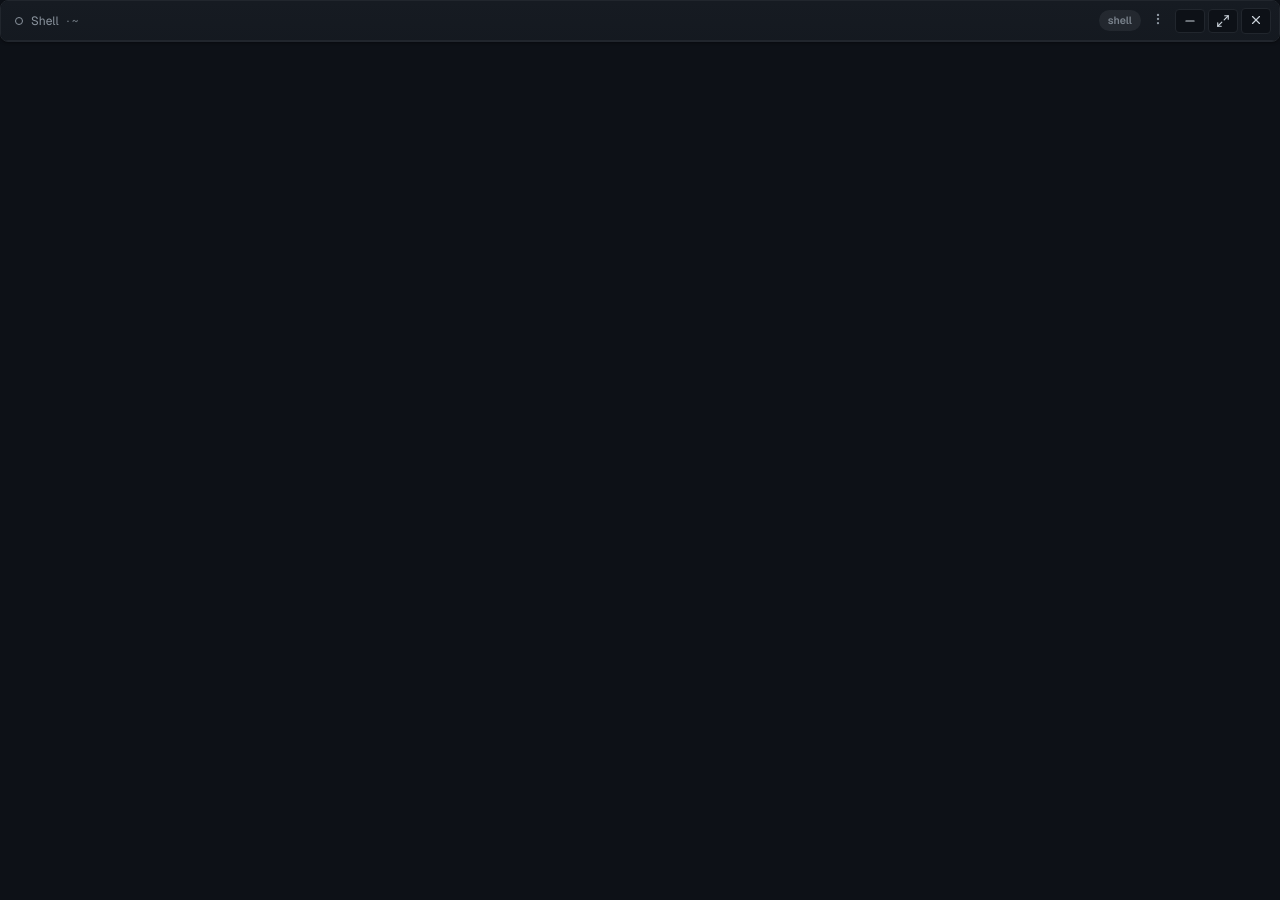
Test: a confirmed kill posts the window and drops its tile at once
The image size is (1280, 900).
Click the button with class "gs-kill-btn" at (1256, 20), box top-left (1241, 8), bottom-right (1271, 34)
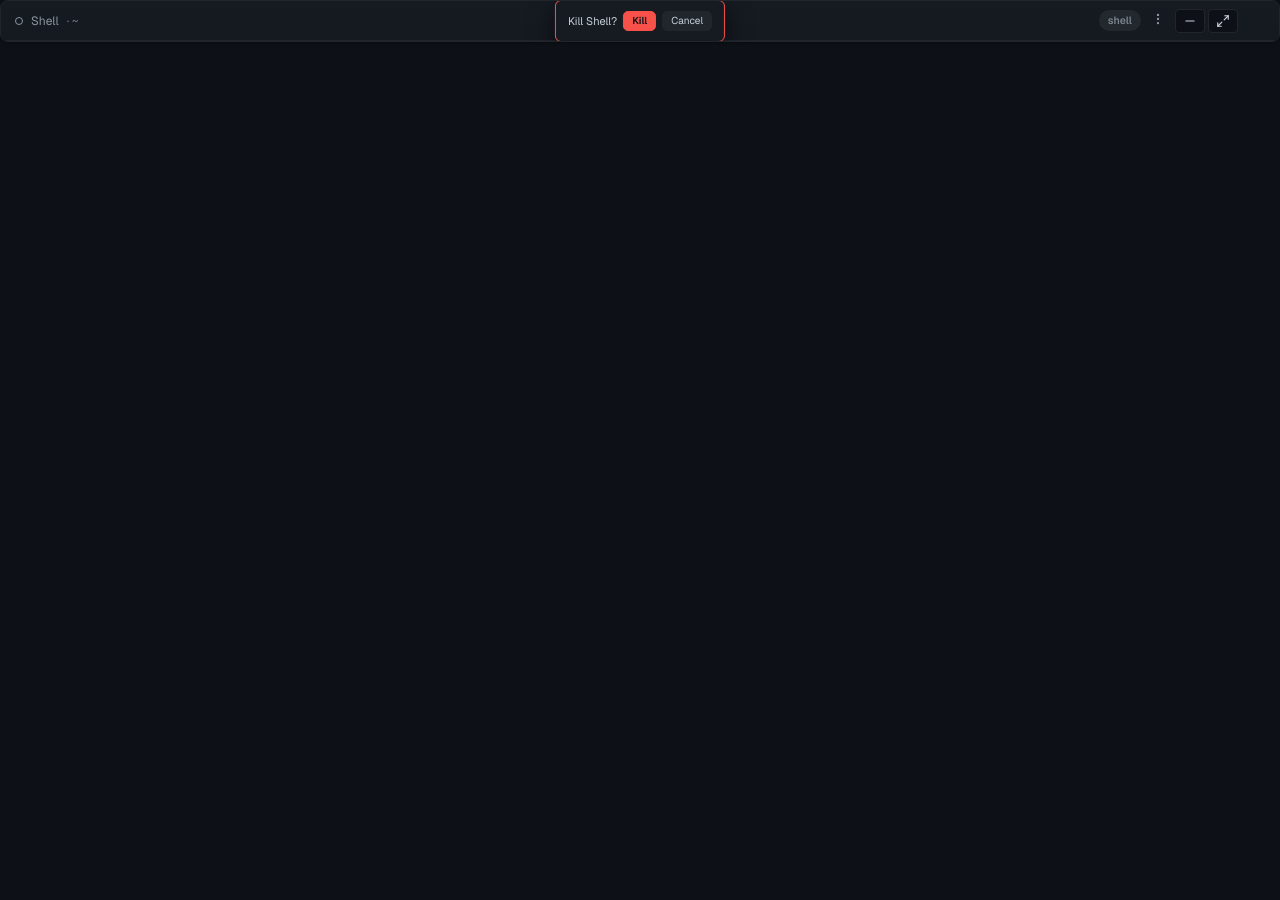
Result: the text with class "kanban-confirm-msg" reads "Kill Shell?" at top-left (568, 13), bottom-right (617, 29)
Click the button with class "btn-confirm" at (640, 21), box top-left (623, 11), bottom-right (656, 31)
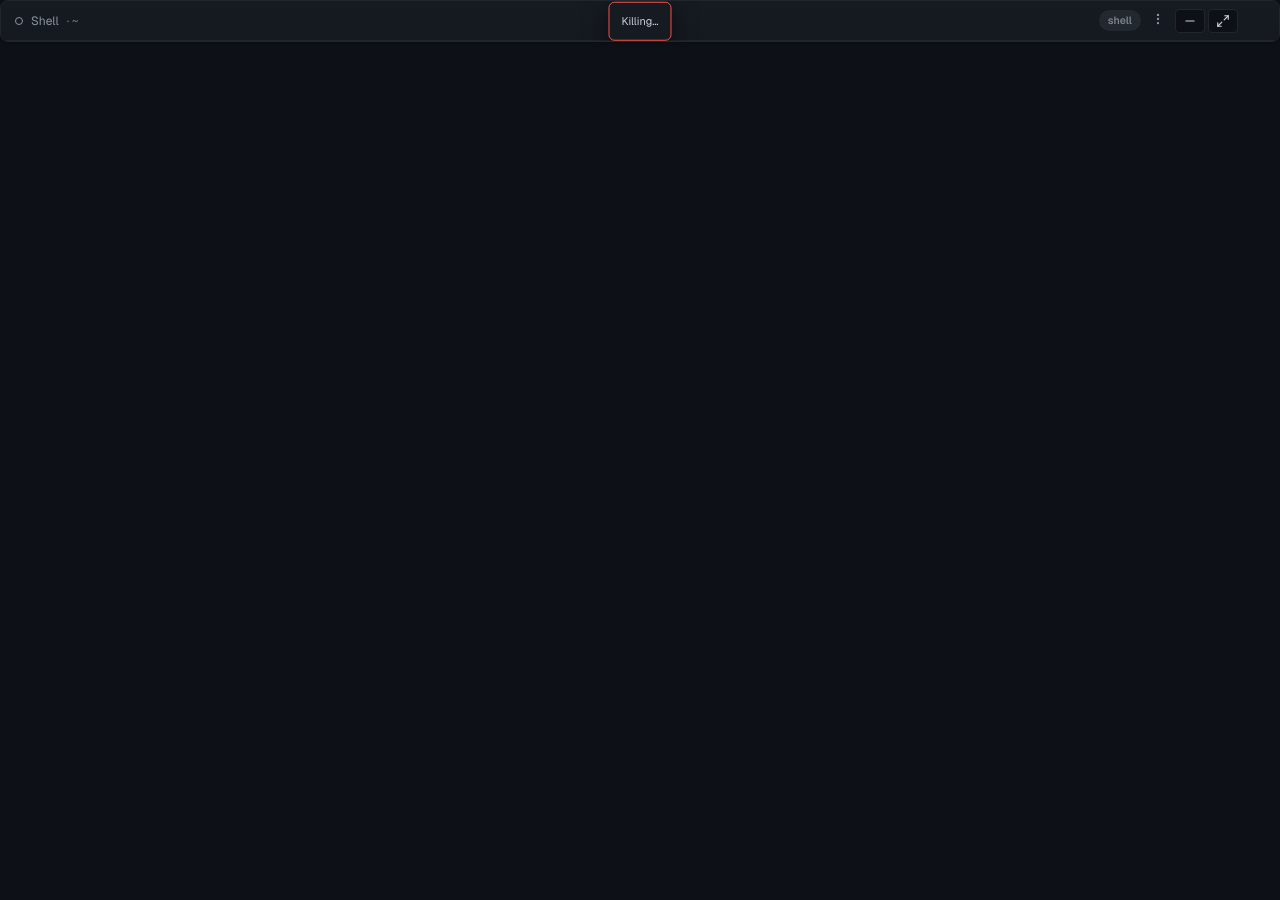
Result: the text with class "kanban-confirm-msg" reads "Killing…" at top-left (622, 14), bottom-right (658, 28)
